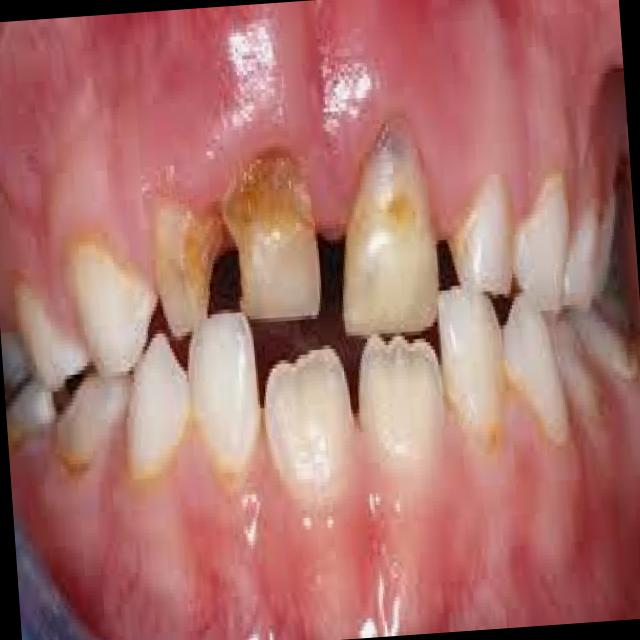caries: (230, 150, 320, 254), (177, 194, 230, 323)
